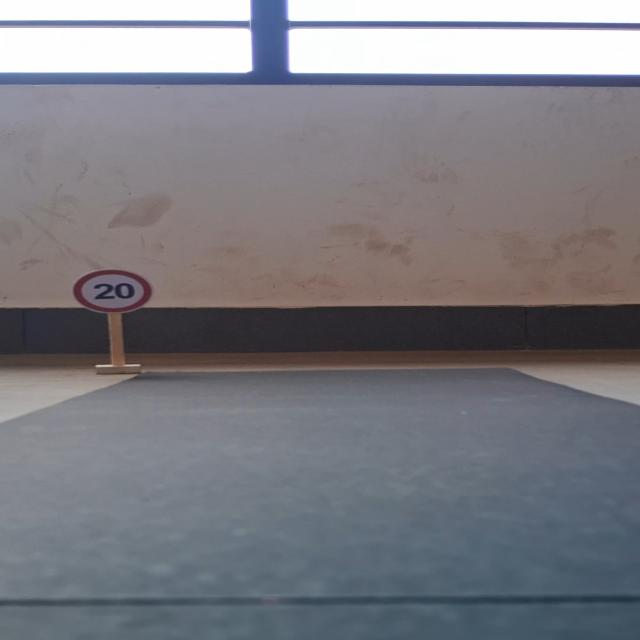Speed20: (54, 258, 160, 319)
